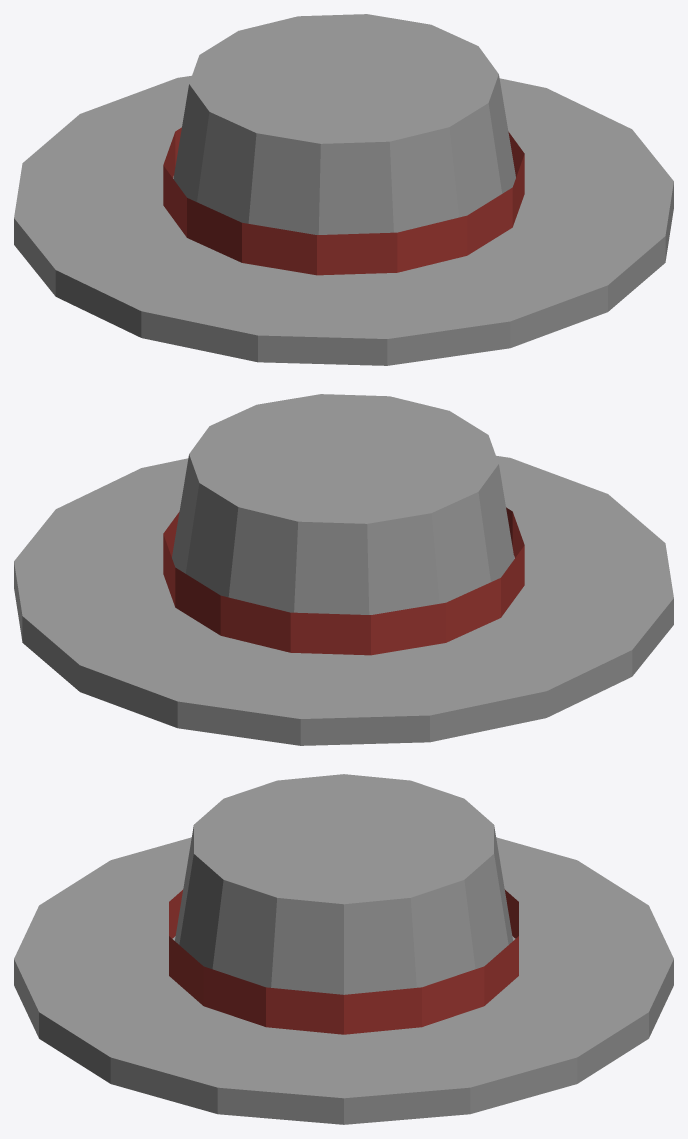
File: acc_strawhat.glb
The picture shows the model from 3 angles, top to bottom: view 1: azimuth 30°, elevation 25°; view 2: azimuth 150°, elevation 25°; view 3: azimuth 270°, elevation 25°; orthographic projection.
Parts seen in each view (by area): view 1: acc_strawhat; view 2: acc_strawhat; view 3: acc_strawhat.
Part boxes in pixels (<box>): acc_strawhat: <box>14,14,673,365</box>; acc_strawhat: <box>14,394,673,745</box>; acc_strawhat: <box>14,774,673,1124</box>.
Size of the model in its own units: 0.9 by 0.22 by 0.9.
